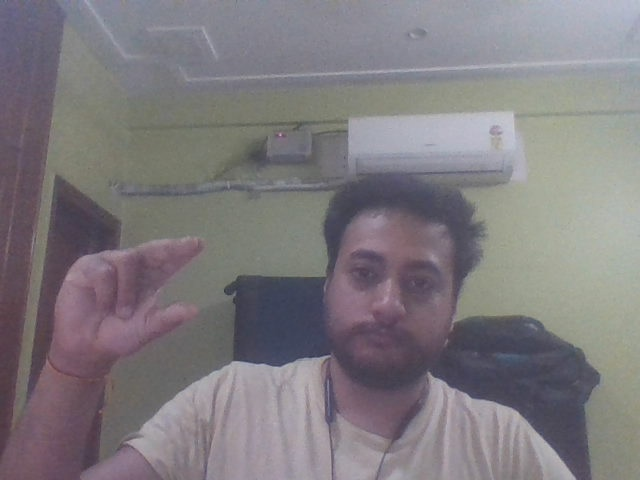No: (33, 228, 240, 395)
